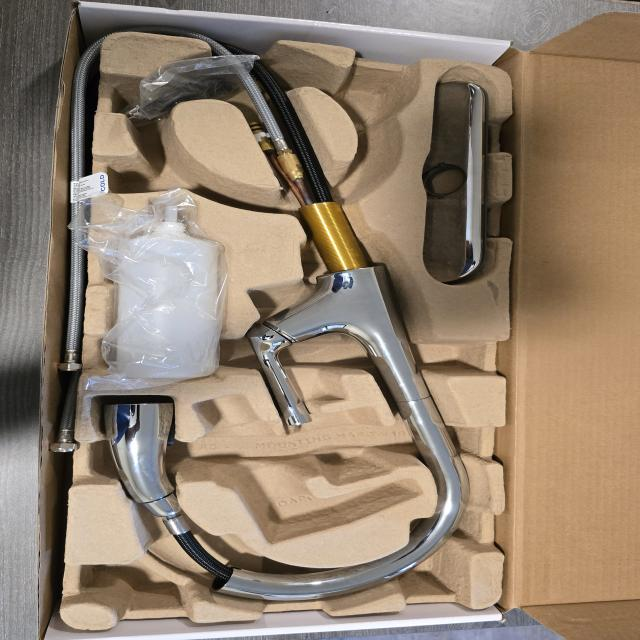1: (95, 40, 469, 603)
2m: (186, 394, 421, 542)
3: (117, 202, 223, 378)
4: (424, 81, 485, 283)
5m: (336, 73, 411, 122)
6m: (105, 131, 245, 203)
7: (133, 55, 263, 127)
